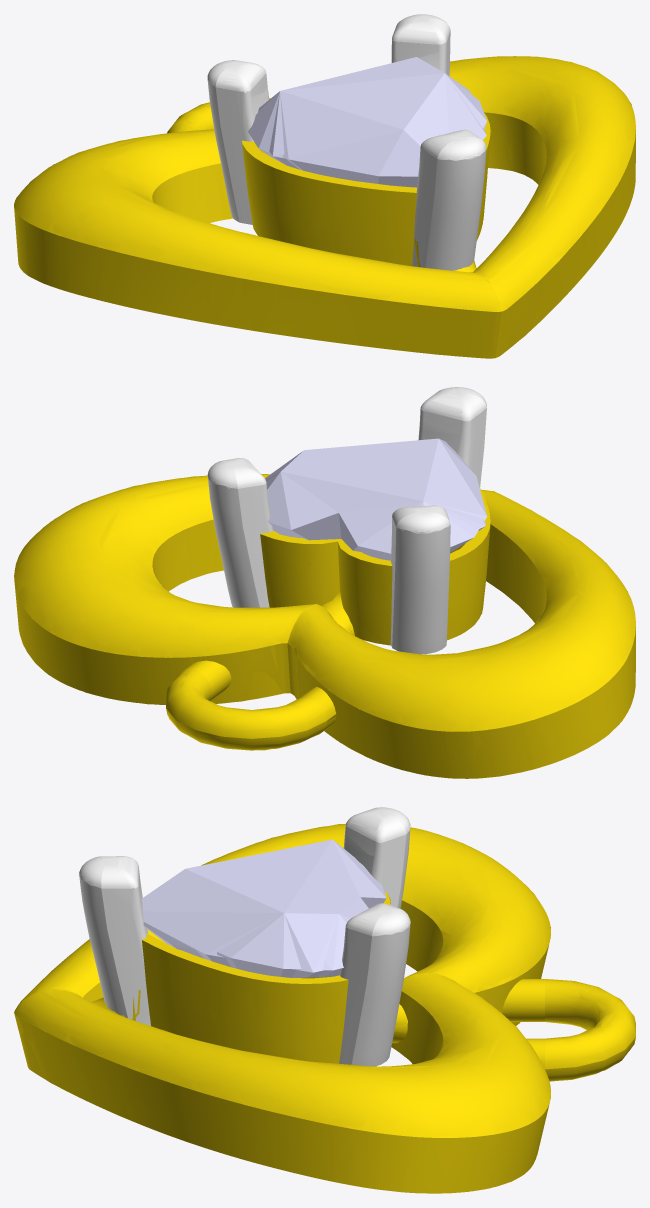
The model's file is DPN-D000675697.glb.
3 renders of one model, top to bottom at view 1: azimuth 30°, elevation 25°; view 2: azimuth 150°, elevation 25°; view 3: azimuth 270°, elevation 25°, orthographic. The views are drawn at different scales.
Parts seen in each view (by area): view 1: highPolyMesh, lowPolyMesh; view 2: highPolyMesh, lowPolyMesh; view 3: highPolyMesh, lowPolyMesh.
Boxes of the visible parts, x1,y1,x2,y2 form: highPolyMesh: [14, 14, 635, 358]; lowPolyMesh: [14, 14, 635, 358]; highPolyMesh: [14, 387, 635, 778]; lowPolyMesh: [14, 387, 635, 778]; highPolyMesh: [14, 807, 635, 1193]; lowPolyMesh: [15, 807, 635, 1193].
Size of the model in its own units: 0.0115 by 0.00367 by 0.0101.
